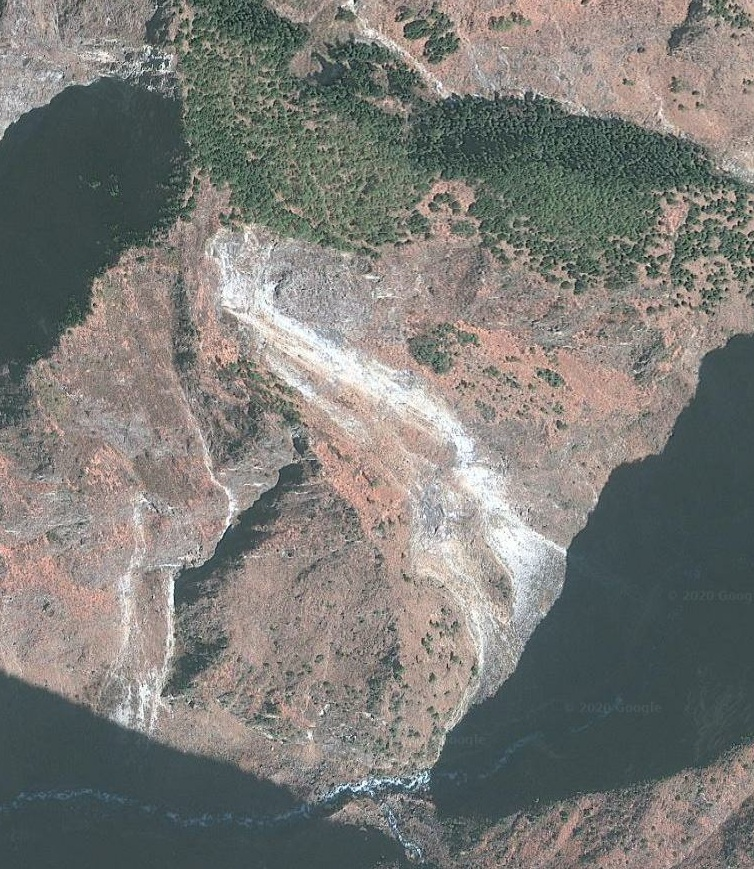slope: (188, 219, 561, 698)
